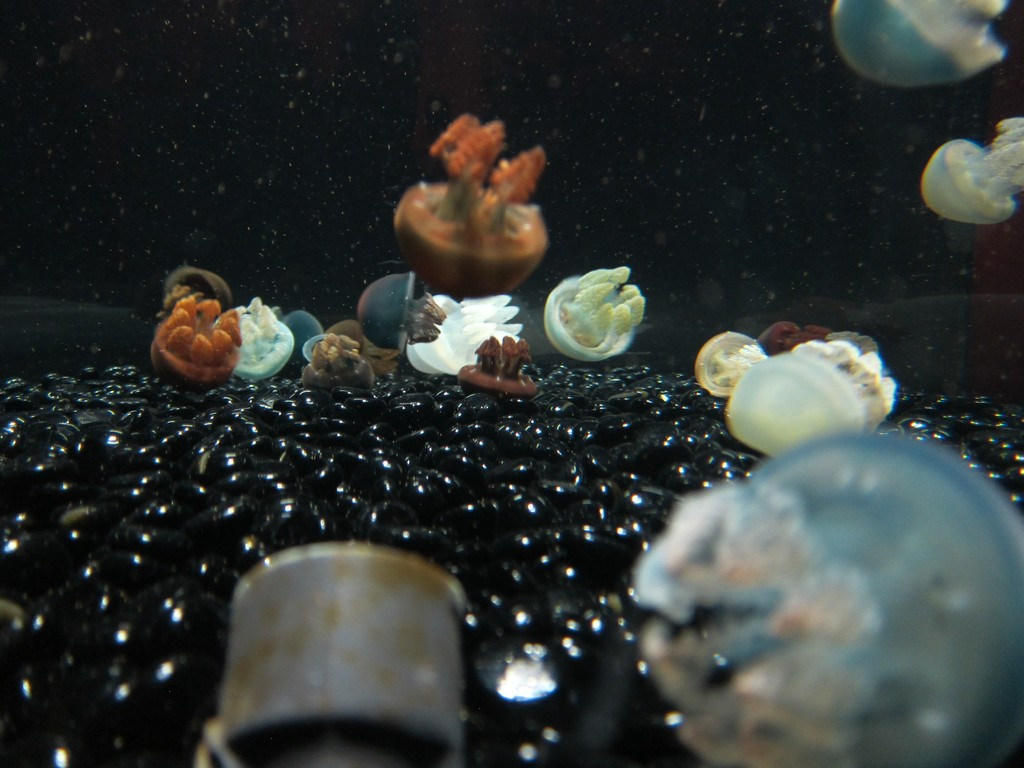Jellyfish: (617, 435, 1023, 765), (391, 113, 549, 295), (725, 338, 896, 456), (832, 0, 1012, 88), (545, 269, 645, 367), (404, 295, 520, 376), (931, 115, 1024, 215), (147, 297, 247, 388), (357, 271, 441, 351), (213, 297, 291, 383), (456, 326, 540, 398), (689, 332, 766, 399), (301, 333, 375, 388)
